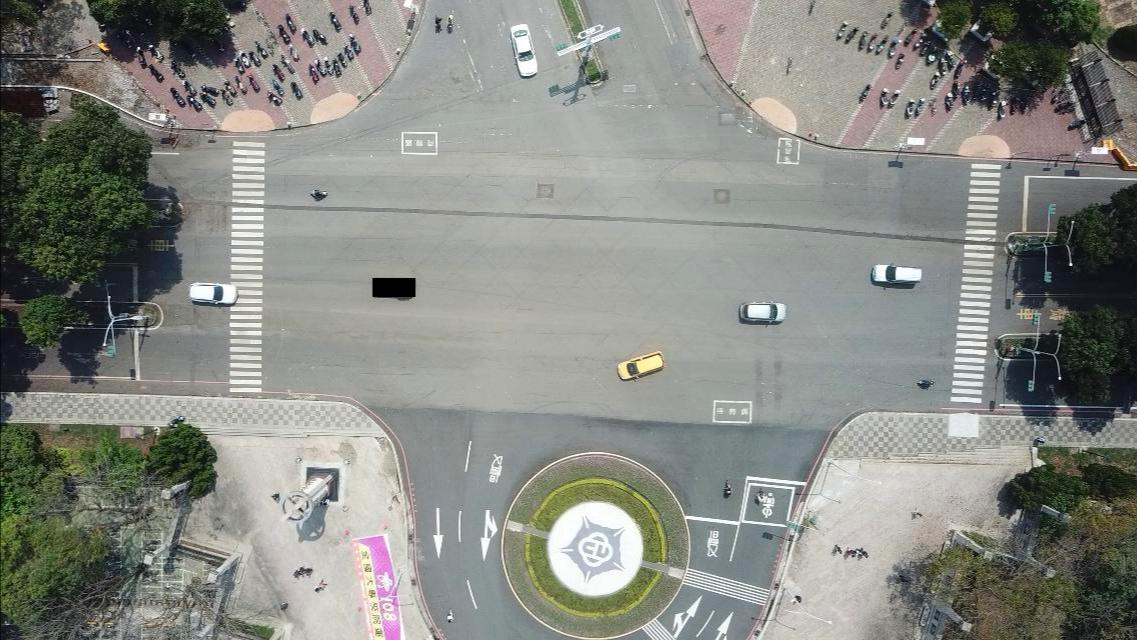vehicle: (510, 23, 539, 78), (617, 352, 665, 381), (188, 283, 238, 305), (871, 264, 923, 285), (738, 303, 787, 323)
